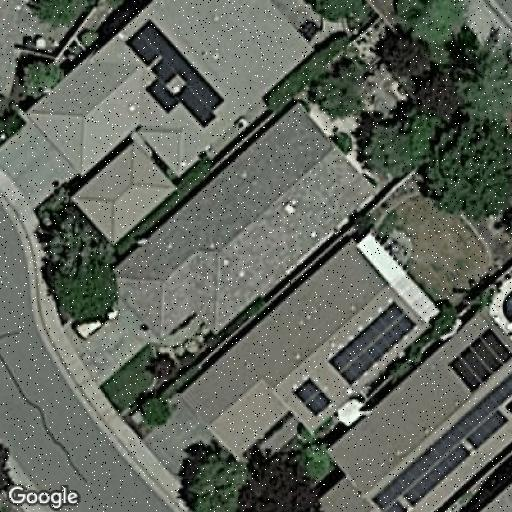solar-panel: (366, 378, 512, 504), (124, 16, 226, 128), (326, 298, 418, 386), (446, 326, 512, 392), (292, 373, 332, 418)
